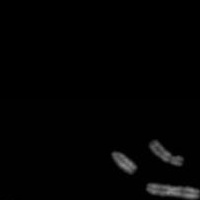chromosome: (145, 182, 200, 199), (149, 139, 183, 166), (111, 150, 136, 174)
